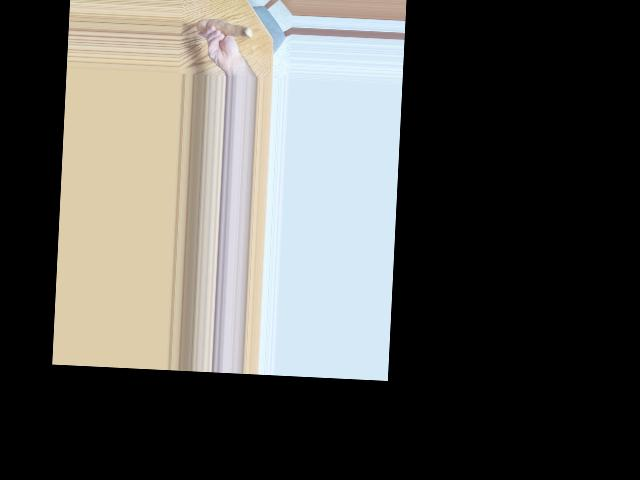sweet_potato: (195, 16, 251, 43)
